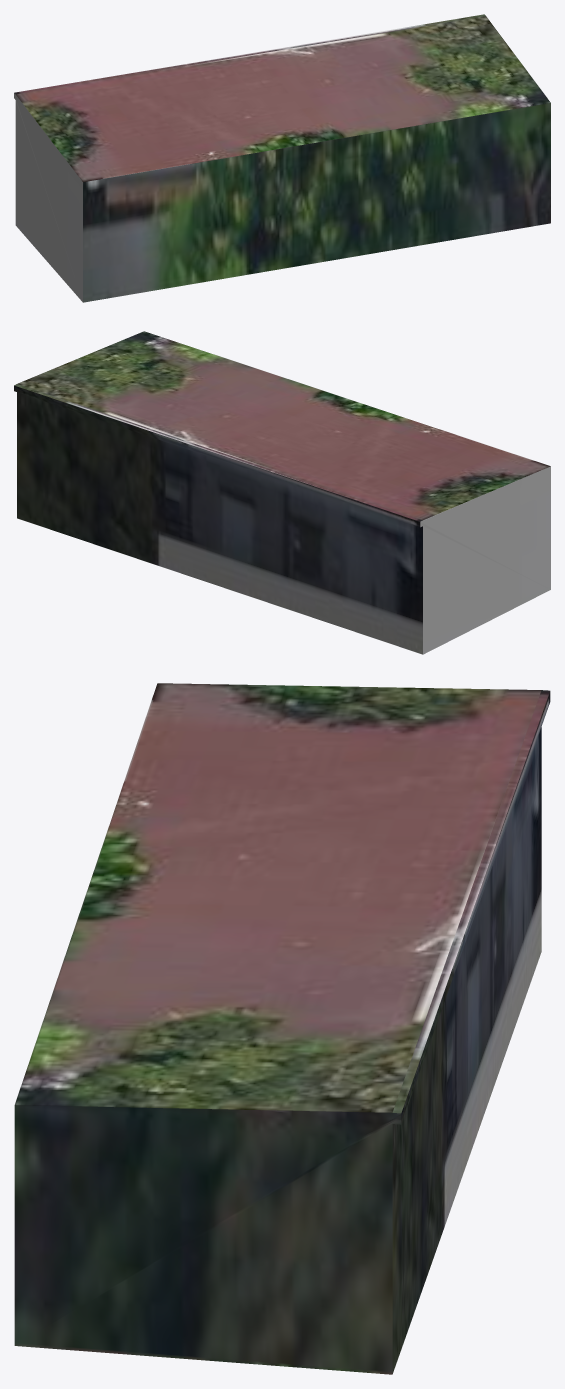
3 renders of one model, top to bottom at view 1: azimuth 30°, elevation 25°; view 2: azimuth 150°, elevation 25°; view 3: azimuth 270°, elevation 25°, orthographic. The views are drawn at different scales.
Parts seen in each view (by area): view 1: B281914039501062A0; view 2: B281914039501062A0; view 3: B281914039501062A0.
Part boxes in pixels (<box>): B281914039501062A0: <box>14,14,550,302</box>; B281914039501062A0: <box>14,331,550,654</box>; B281914039501062A0: <box>14,683,550,1374</box>.
Bounding box in the file's own units: 13.29 × 3.6 × 6.67.
1 material, 1 textured.
